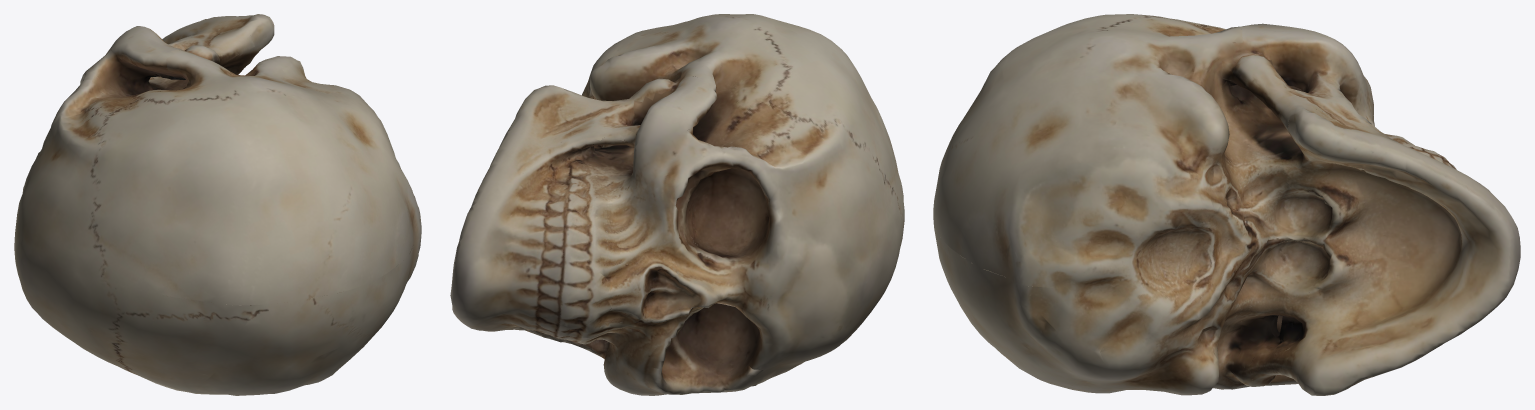
3 renders of one model, left to right at view 1: azimuth 30°, elevation 25°; view 2: azimuth 150°, elevation 25°; view 3: azimuth 270°, elevation 25°, orthographic. The views are drawn at different scales.
Parts seen in each view (by area): view 1: RENDER_00; view 2: RENDER_00; view 3: RENDER_00.
Part boxes in pixels (x1=…): RENDER_00: x1=14, y1=14, x2=421, y2=395; RENDER_00: x1=450, y1=14, x2=904, y2=395; RENDER_00: x1=933, y1=14, x2=1520, y2=395.
Size of the model in its own units: 0.7102 by 0.6478 by 1.
1 material, 1 textured.
